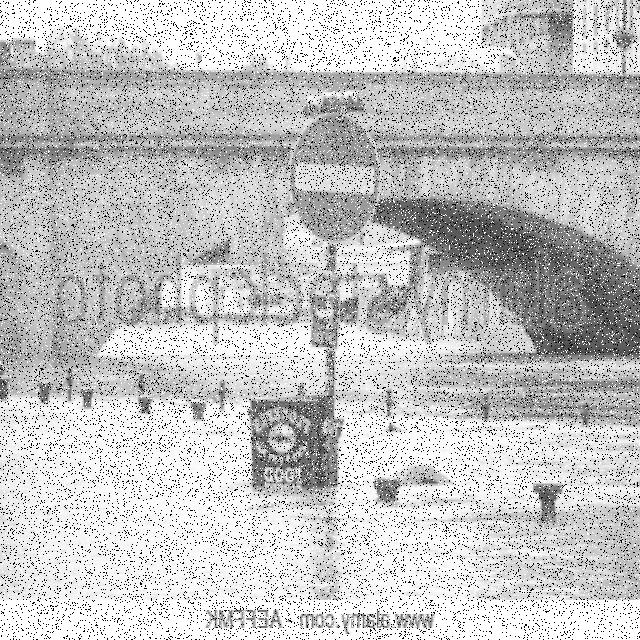no entry: (290, 112, 381, 243)
